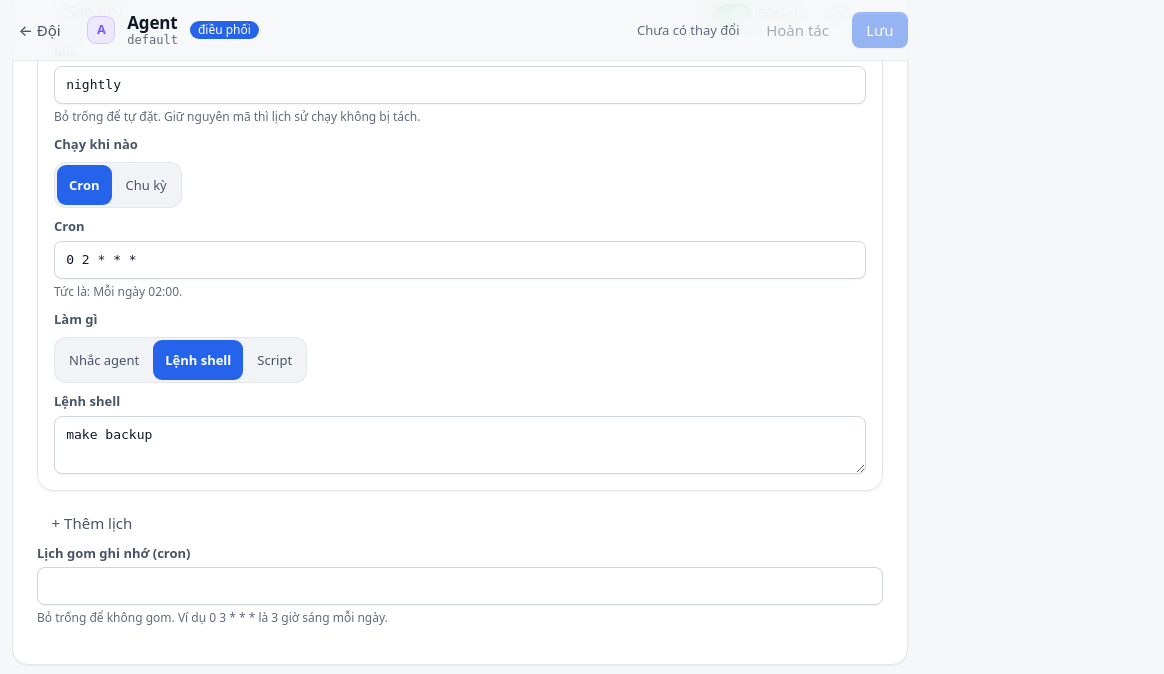
it: the skills a command row lists in its file › are written as the file had them when the command's words change after a round trip
(page scrolled)
Step 1. Click the button "Nhắc agent" → (104, 360), box [57, 340, 151, 380]
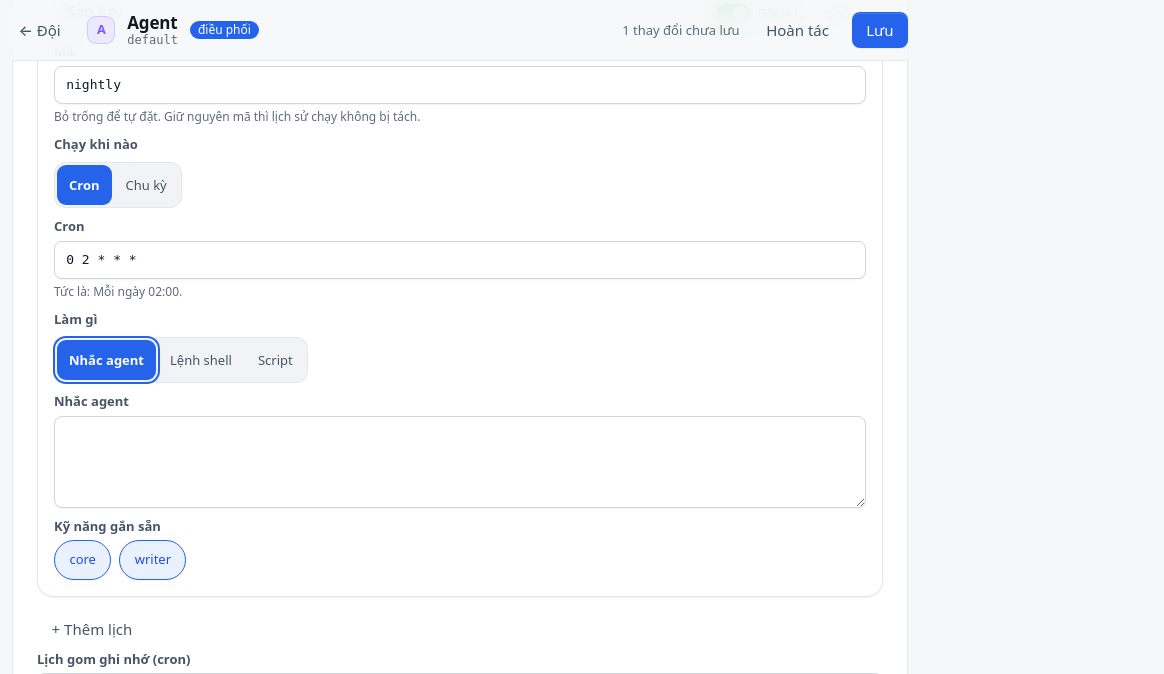
Step 2. Click the button "Lệnh shell" → (201, 360), box [158, 340, 244, 380]
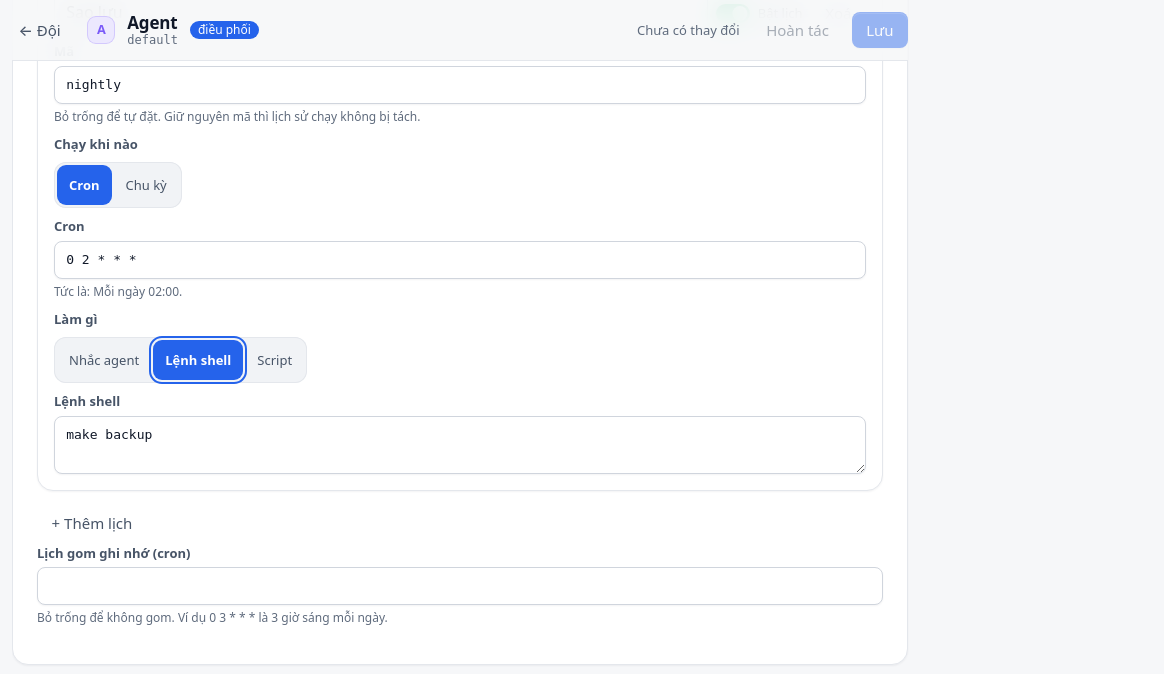
Step 3. Type " --all" into the text box labelled "Lệnh shell" → (460, 445), box [54, 416, 866, 474]
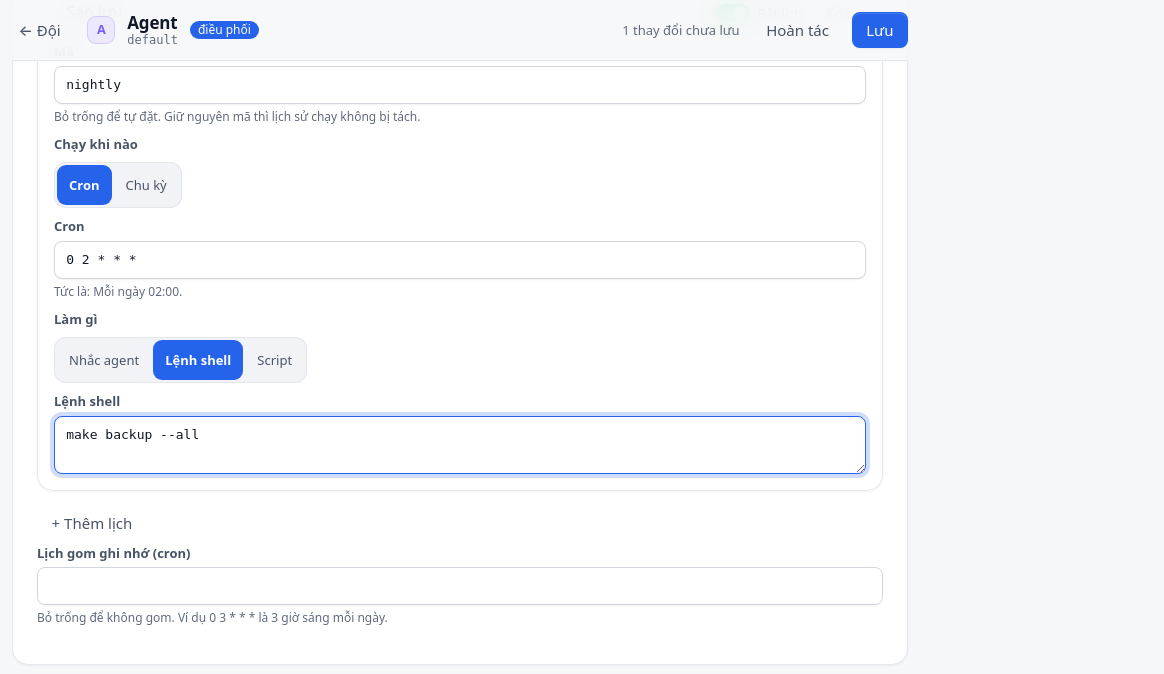
Step 4. Click the button "Lưu" → (880, 30), box [852, 12, 908, 48]
(page scrolled)
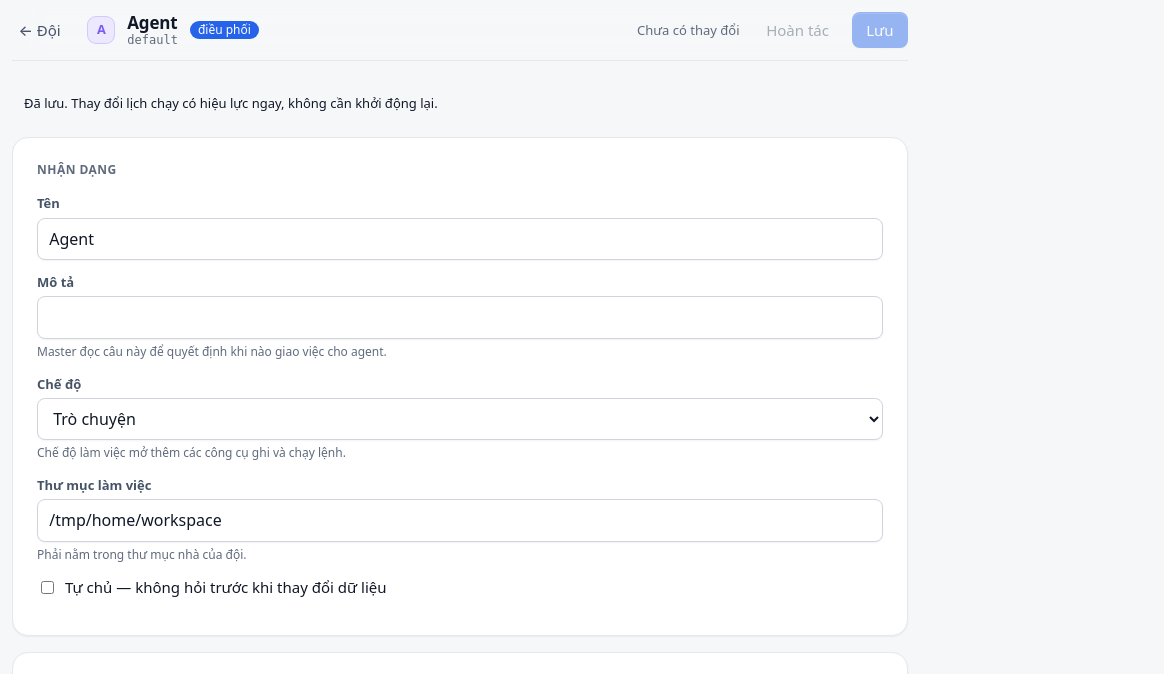
Now the message "Đã lưu. Thay đổi lịch chạy có hiệu lực ngay, không cần khởi động lại." is shown, box [24, 94, 438, 112]
